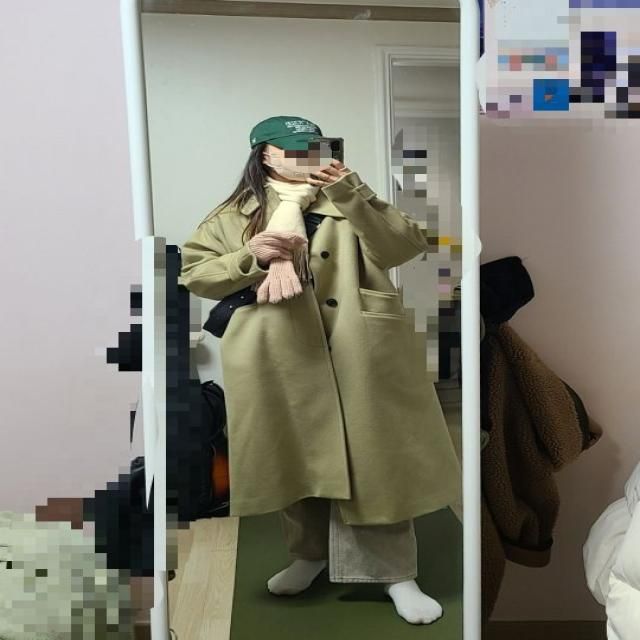coat: (184, 174, 459, 526)
denimpants: (288, 492, 420, 586)
